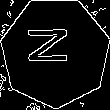N_E: (30, 32, 80, 73)
